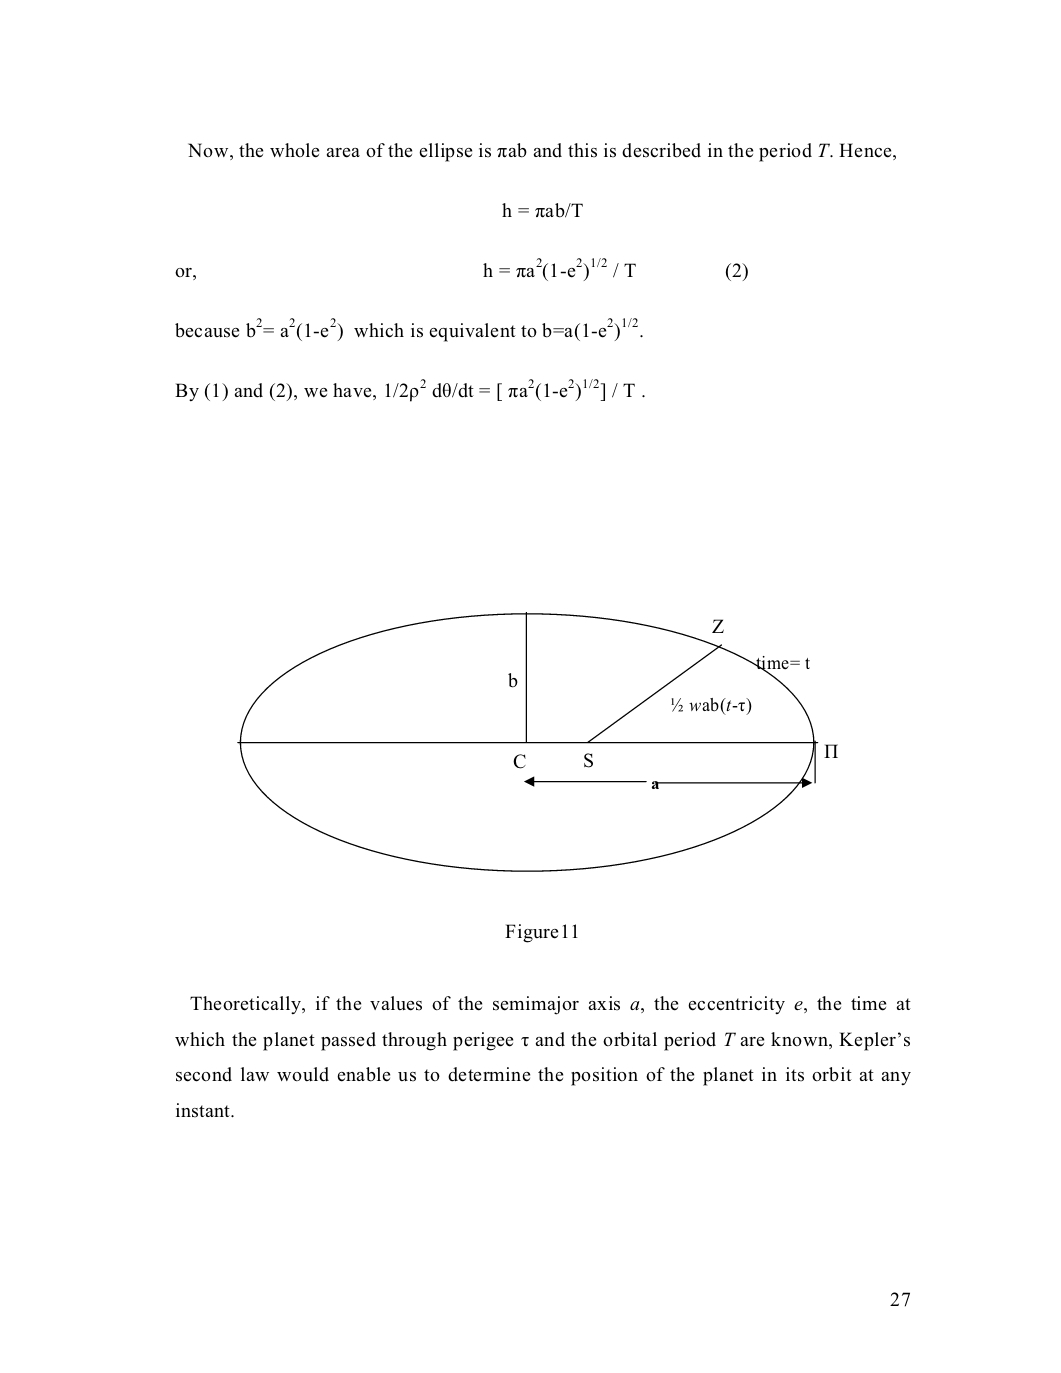figure: (237, 611, 837, 871)
formula: (175, 259, 747, 280), (502, 202, 582, 218)
